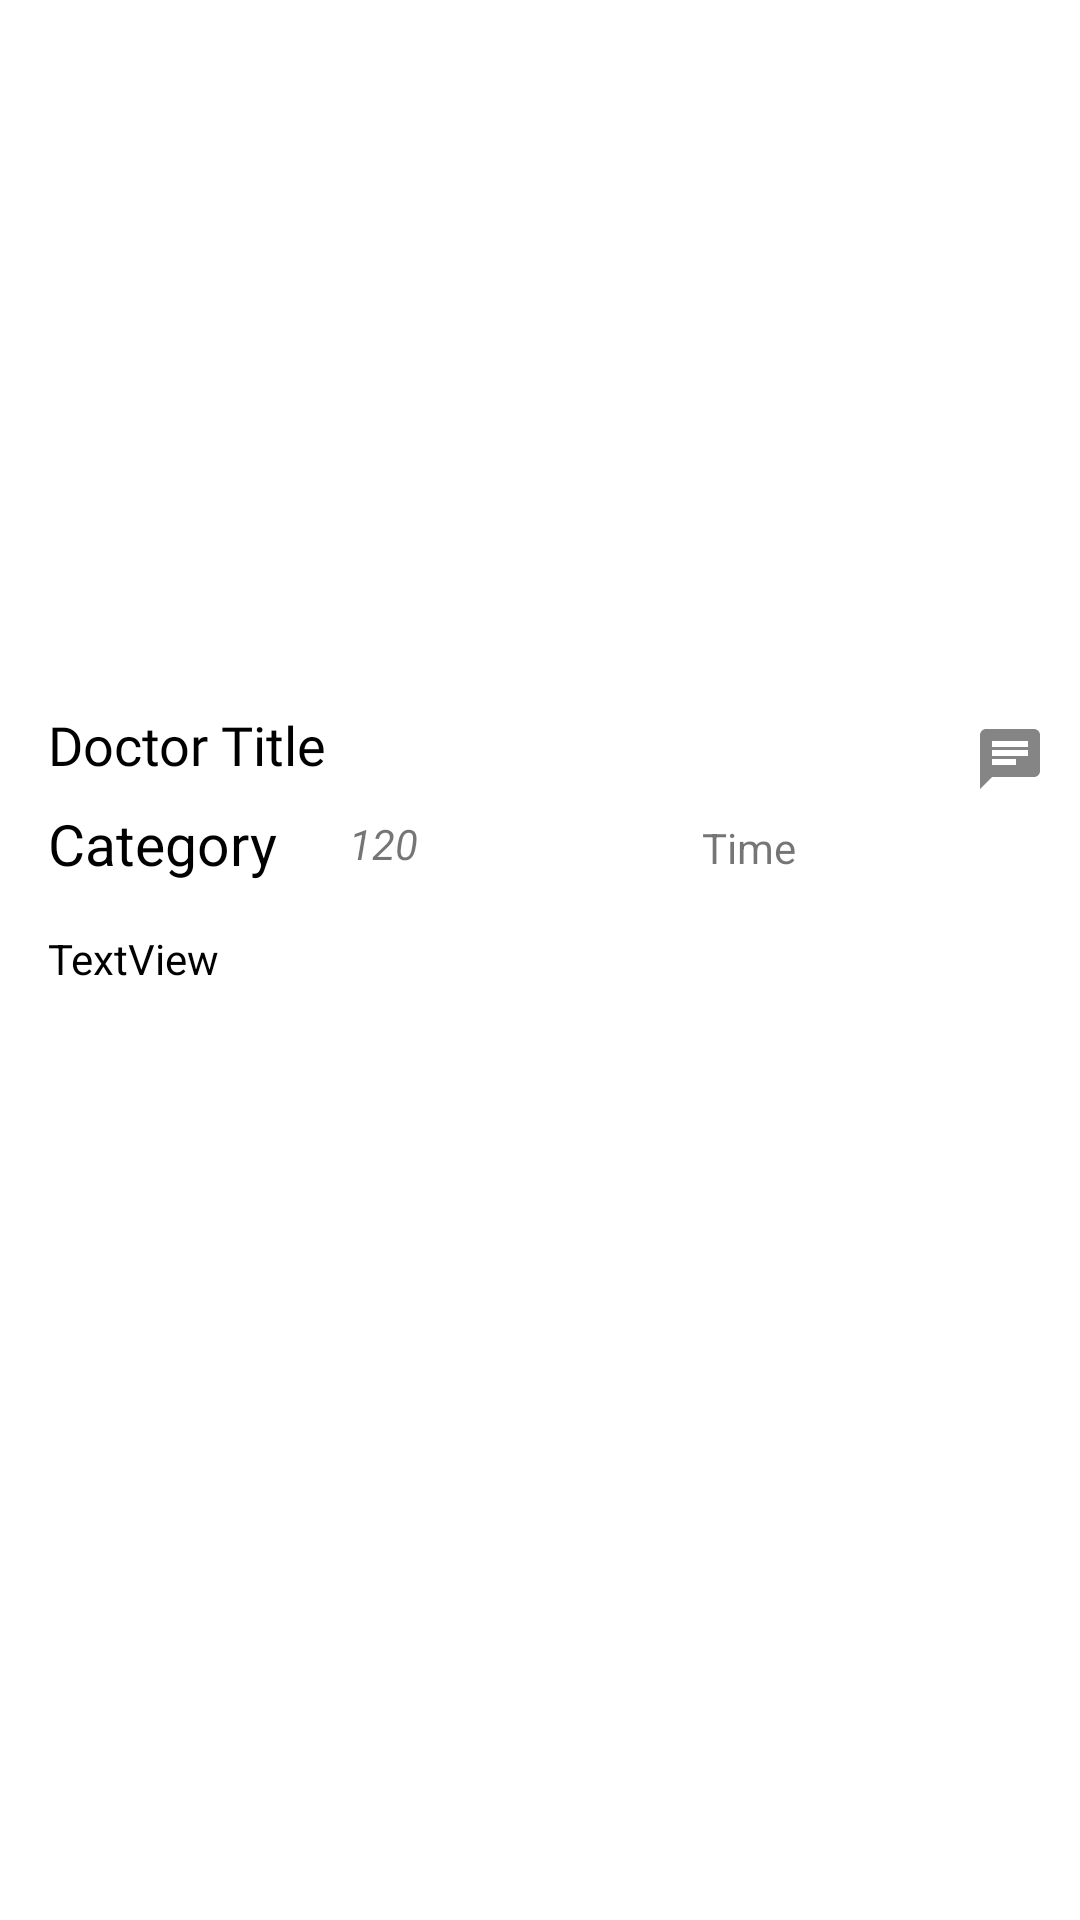

Named icons in this screenshot (1080w x 1920h) and their centers, [x,y]:
chat: [1010,759]
